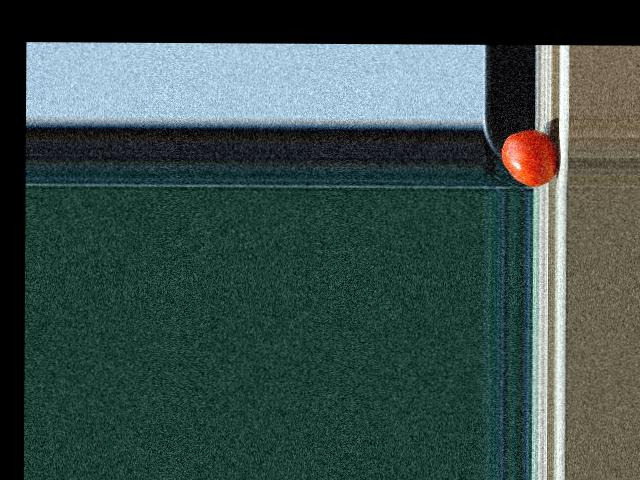tomato: (500, 129, 557, 186)
